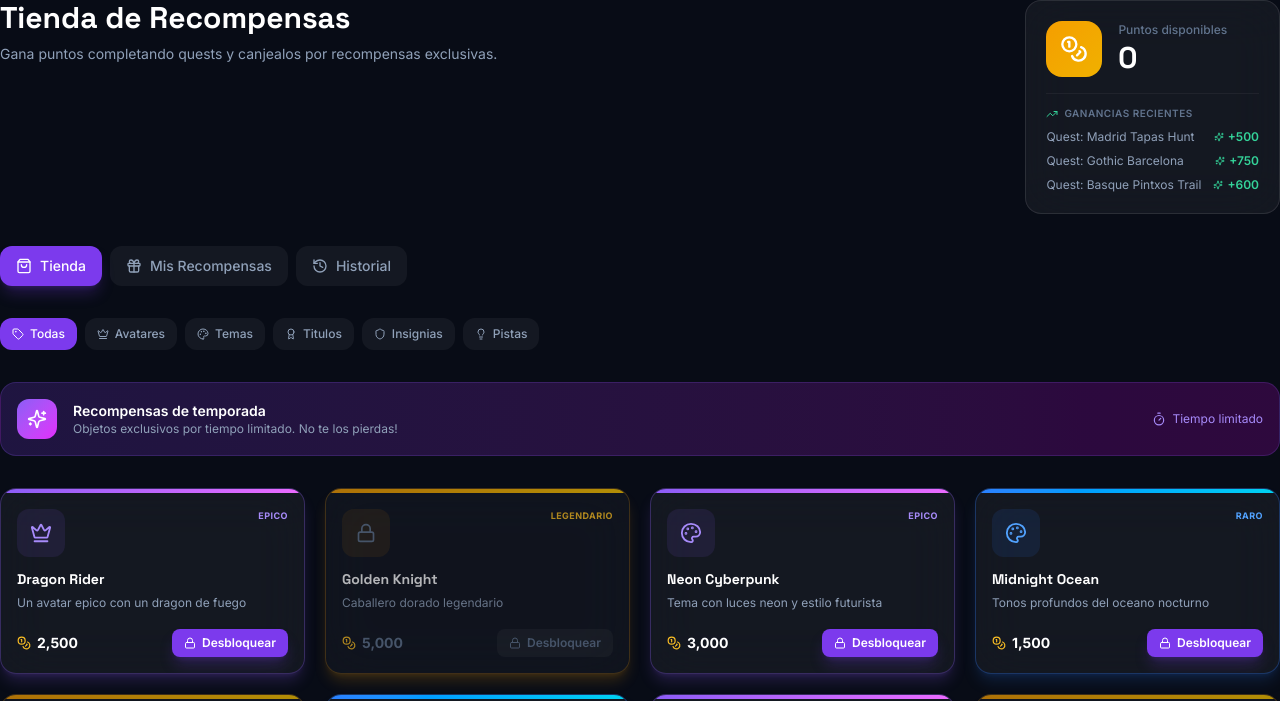
Scenario: RewardsPage › switches to History tab and shows transaction history
Step 1. Click the button "Historial" → {"x": 351, "y": 266}, box [296,246,407,286]
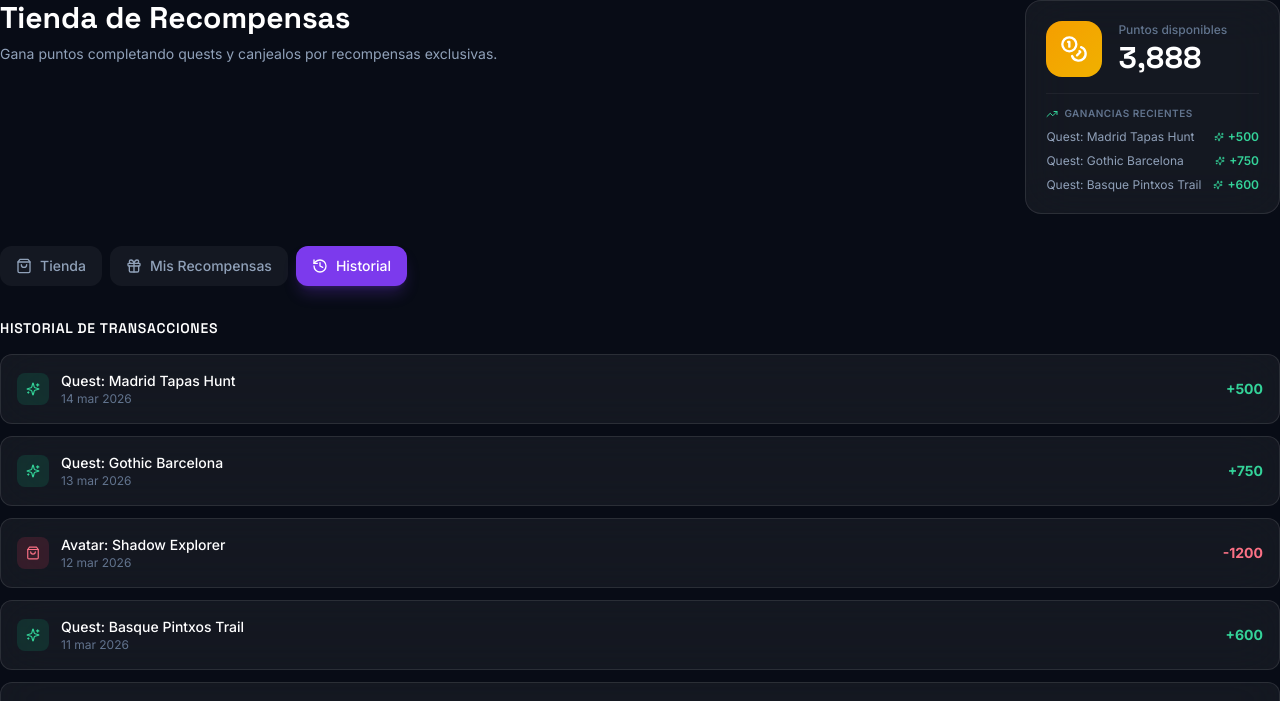
Expected: the heading "Historial de transacciones" is shown, [0,319,218,337]
